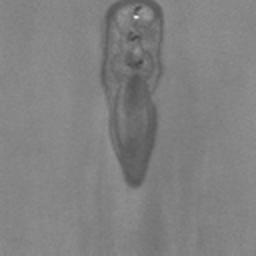Slag inclusion: (100, 0, 166, 188)
